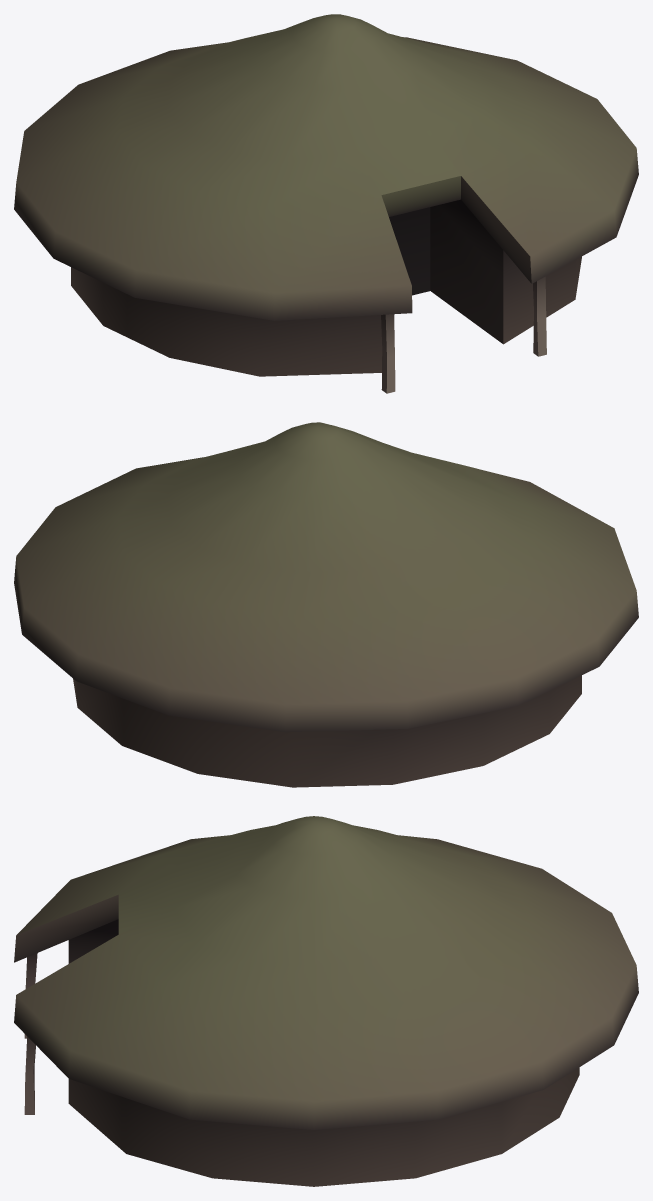
The model's file is buildings-historical-roundhouse_v4.glb.
The picture shows the model from 3 angles, top to bottom: view 1: azimuth 30°, elevation 25°; view 2: azimuth 150°, elevation 25°; view 3: azimuth 270°, elevation 25°; orthographic projection. The views are drawn at different scales.
Visible parts, largest first — view 1: Roundhouse_v4; view 2: Roundhouse_v4; view 3: Roundhouse_v4.
Part boxes in pixels (x1=…): Roundhouse_v4: x1=14, y1=14, x2=638, y2=393; Roundhouse_v4: x1=14, y1=422, x2=638, y2=787; Roundhouse_v4: x1=14, y1=816, x2=638, y2=1186.
Size of the model in its own units: 11.87 by 5.19 by 11.42.
